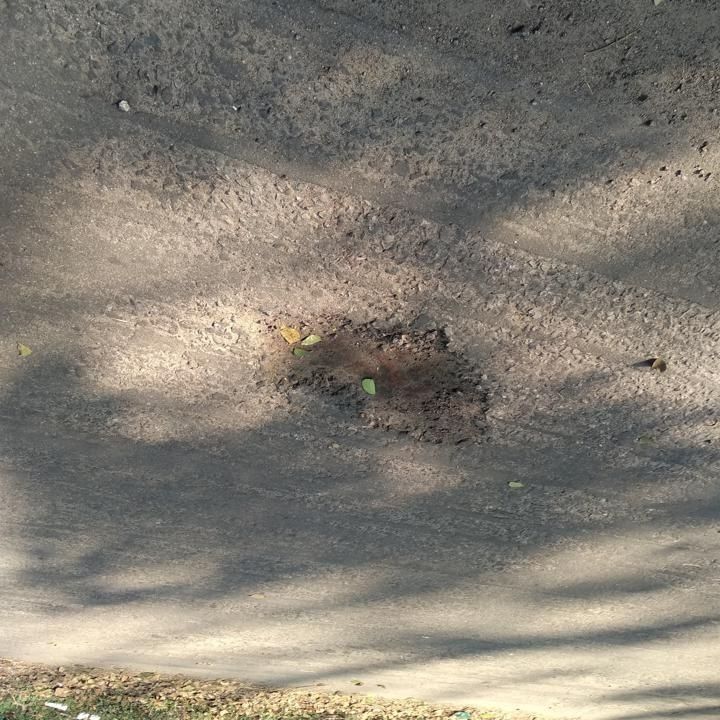pothole: (250, 305, 500, 450)
